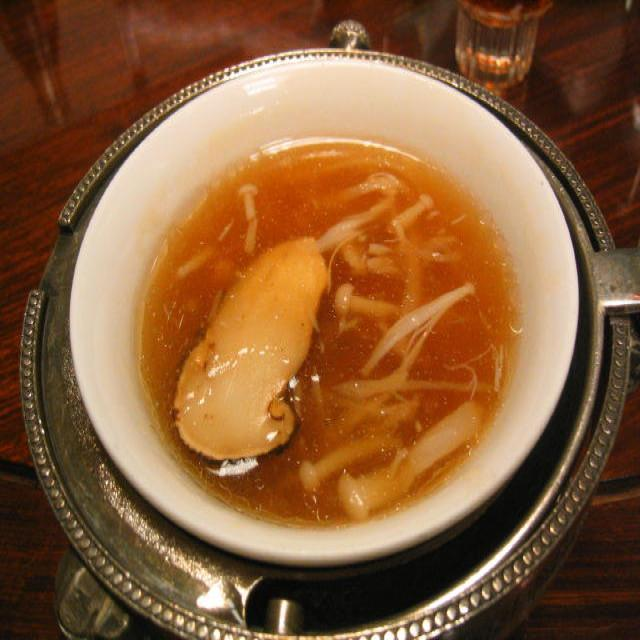汤锅炖物: (84, 66, 576, 546)
